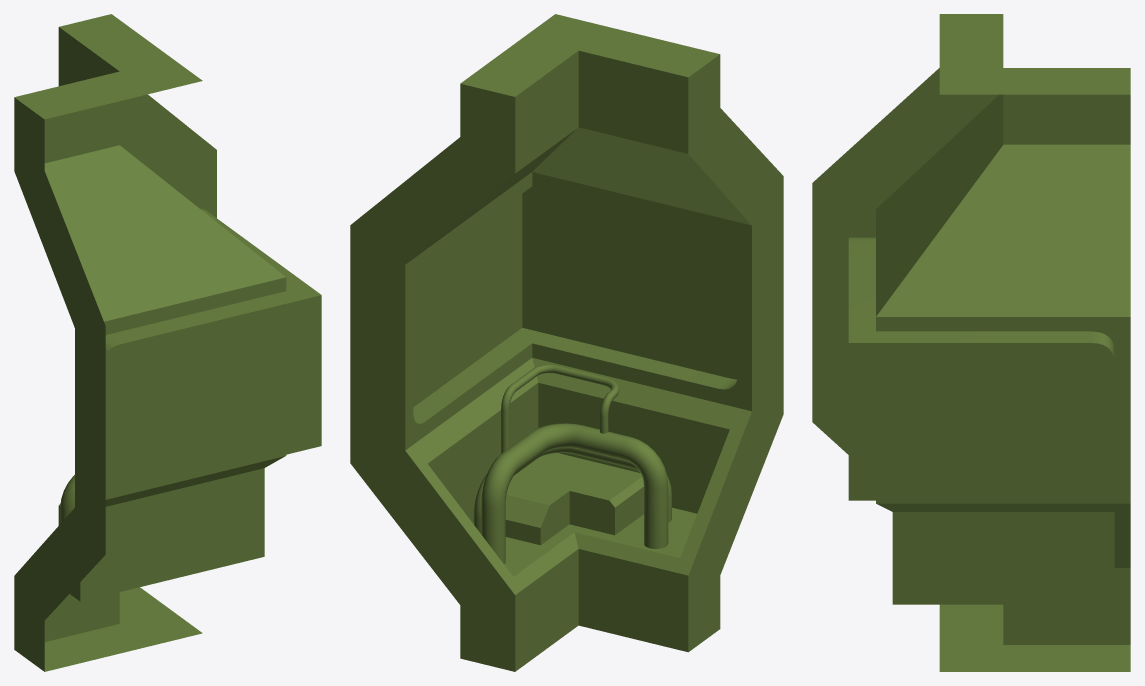
Rendered from Wall_A_4x1m_TurnIn.FBX.
3 views of the same model, side by side, from view 1: azimuth 30°, elevation 25°; view 2: azimuth 150°, elevation 25°; view 3: azimuth 270°, elevation 25° (orthographic). The views are drawn at different scales.
Parts seen in each view (by area): view 1: Wall_A_4x1m_TurnIn; view 2: Wall_A_4x1m_TurnIn; view 3: Wall_A_4x1m_TurnIn.
Part boxes in pixels (left/top/right/bottom): Wall_A_4x1m_TurnIn: left=14, top=14, right=321, bottom=671; Wall_A_4x1m_TurnIn: left=350, top=14, right=783, bottom=671; Wall_A_4x1m_TurnIn: left=812, top=14, right=1130, bottom=671.
Bounding box in the file's own units: 200 × 400 × 200.
